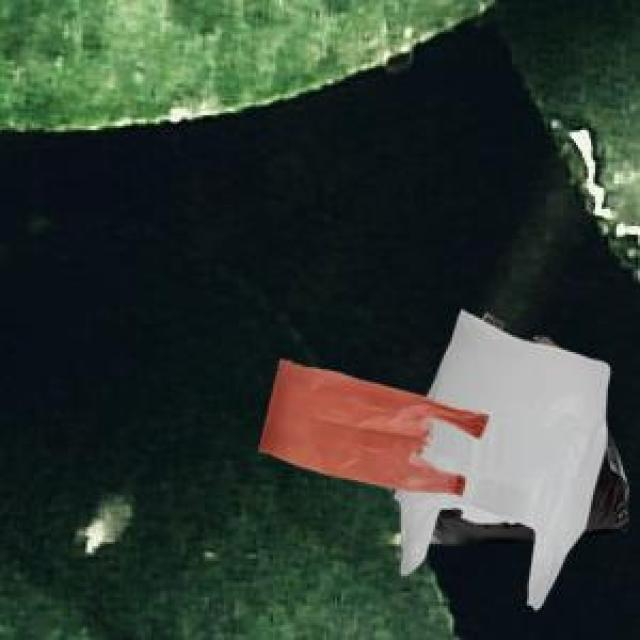miscellaneous trash: (427, 309, 625, 540)
